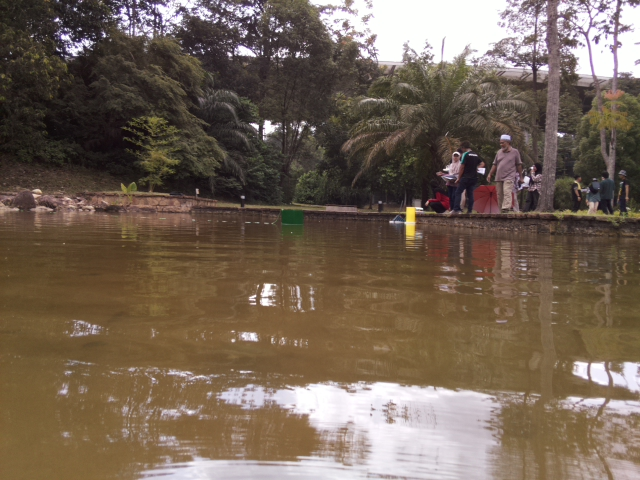obstacle: (280, 209, 305, 227)
